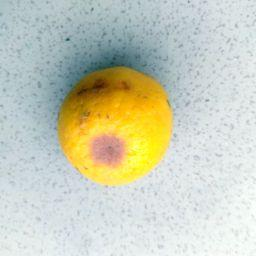Ripe: (59, 65, 173, 186)
